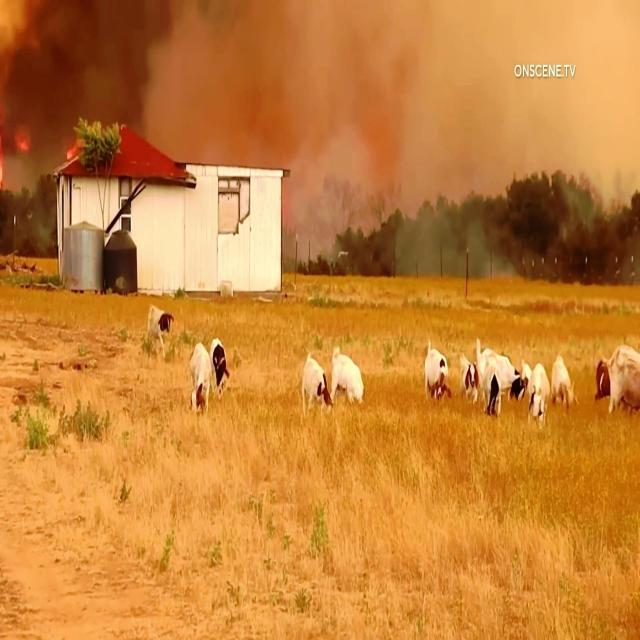Smoke: (18, 8, 158, 132)
